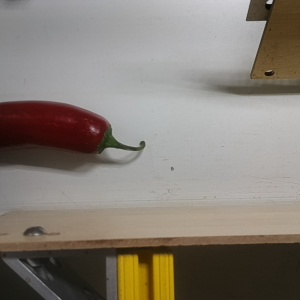Cut Point: (86, 111, 115, 159)
